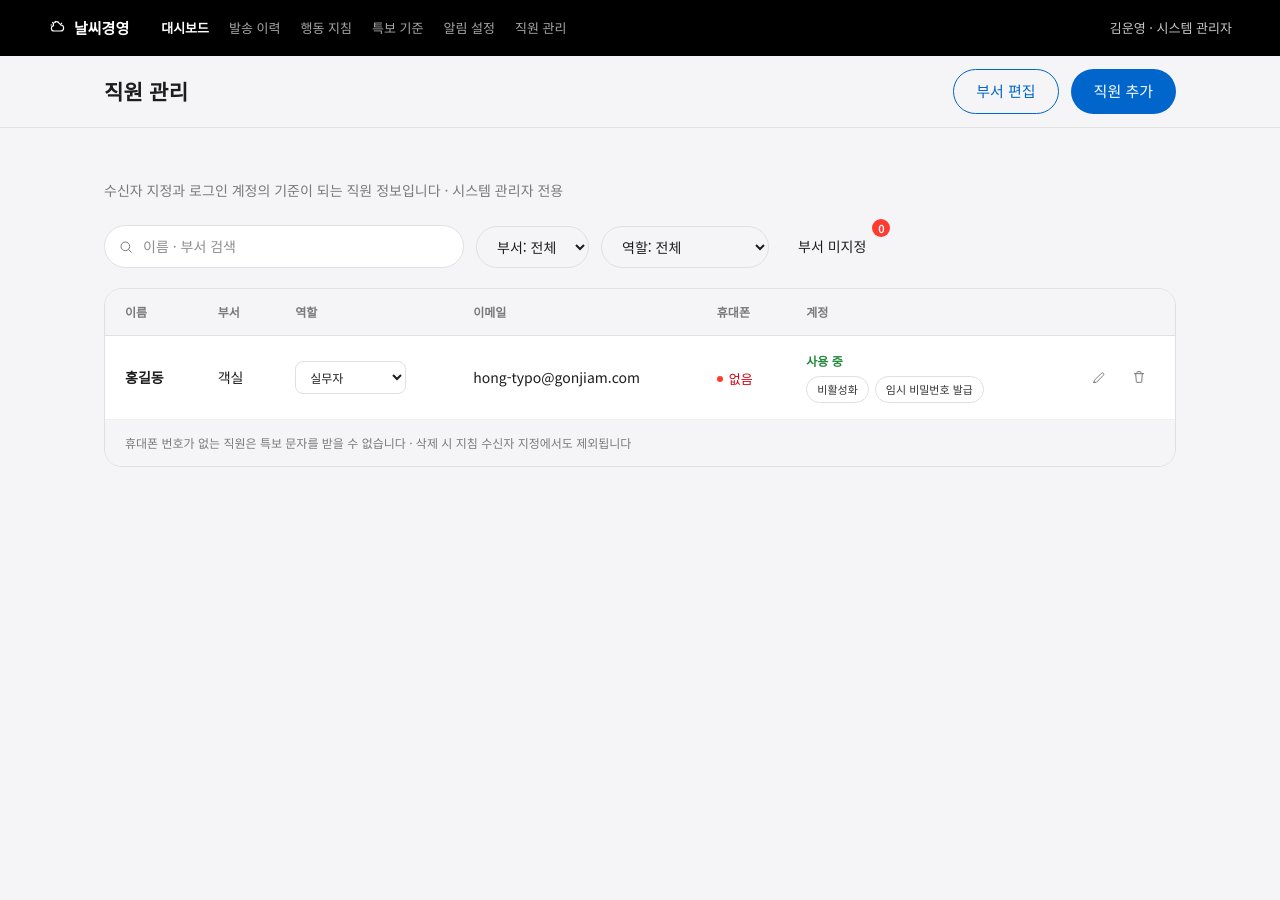
it: Employees 직원 수정 › 중복 이메일(409)이면 성공이 아니라 서버 문구를 보여준다
This screenshot has width=1280, height=900.
Click the button named "홍길동 수정".
click(1099, 377)  # box [1083, 361, 1115, 393]
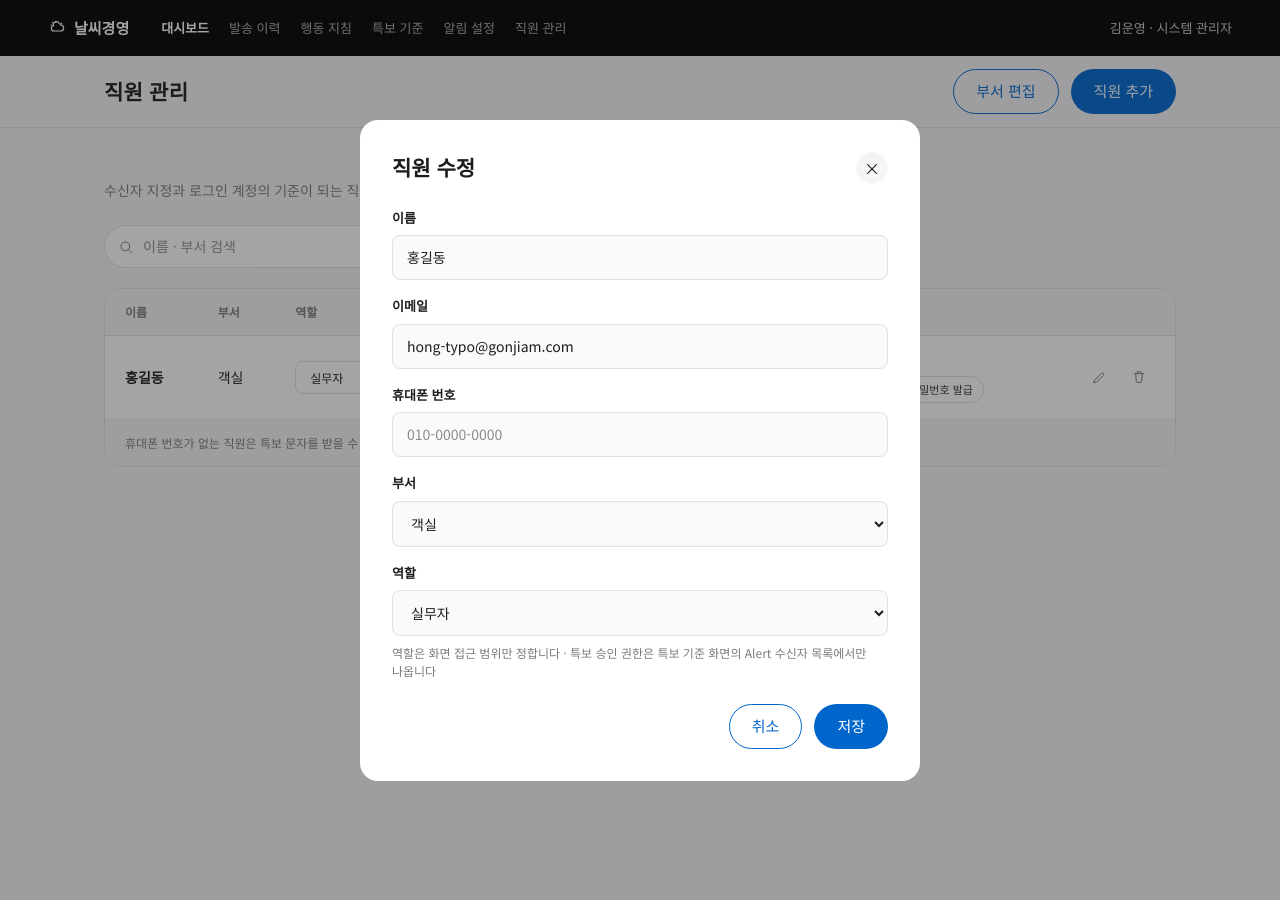
Click the button "저장".
click(851, 726)  # box [814, 704, 888, 748]
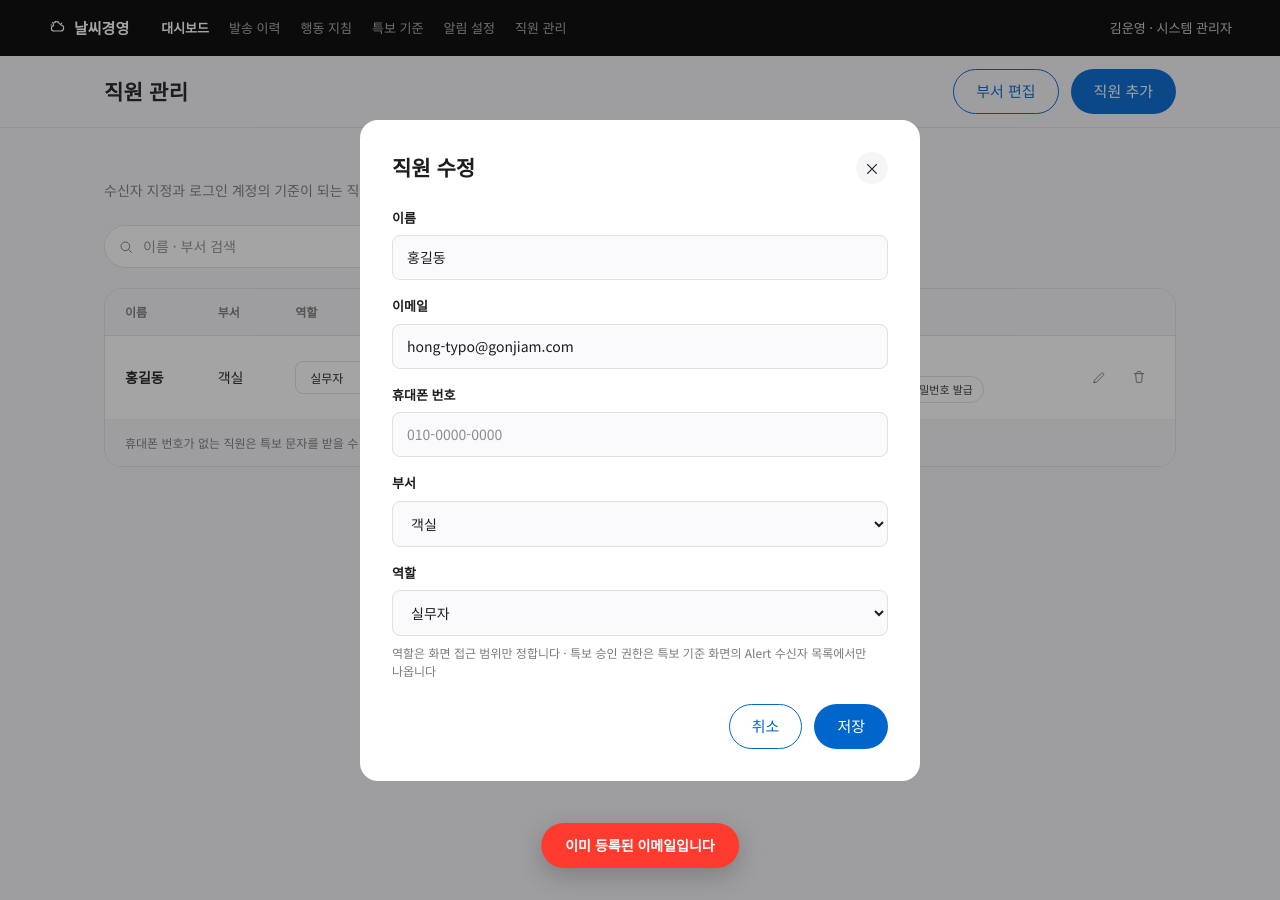
Result: the text "이미 등록된 이메일입니다" is shown at [541, 823, 739, 868]
